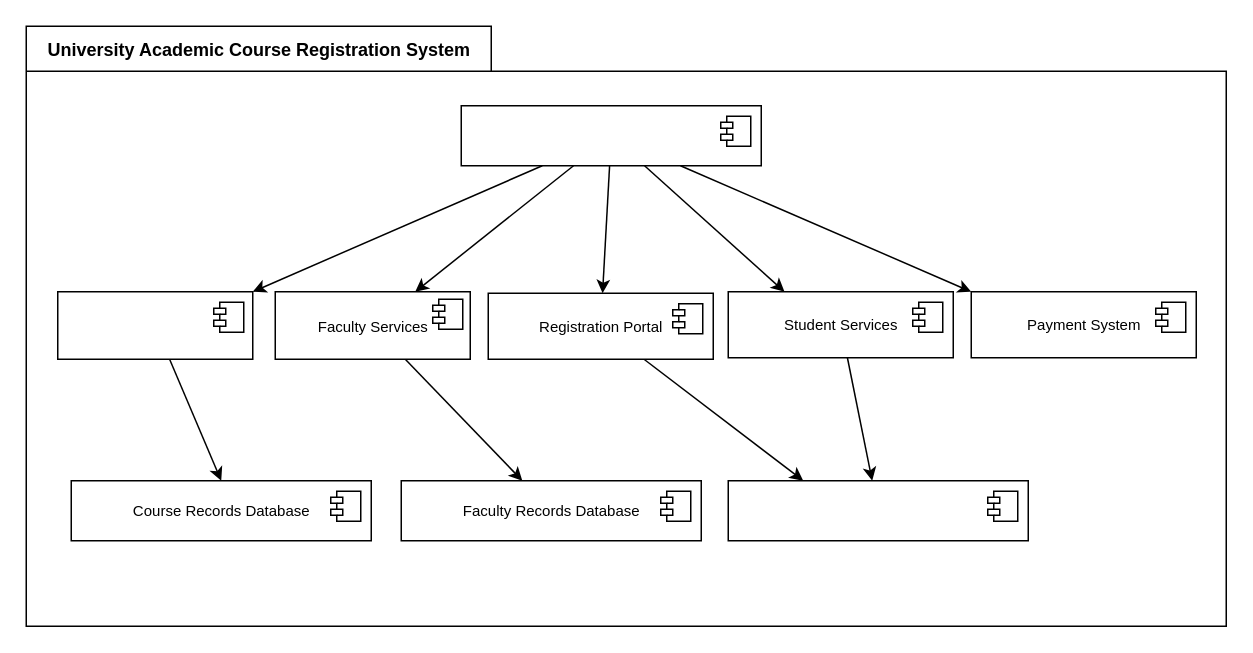
The diagram is 1253 pixels wide and 653 high, and some of its shapes have lost their labels. Each missing label, with the box of its shape:
Course Catalog: (56, 290, 253, 359)
Course Registration System: (460, 104, 761, 166)
Student Records Database: (727, 479, 1028, 541)
